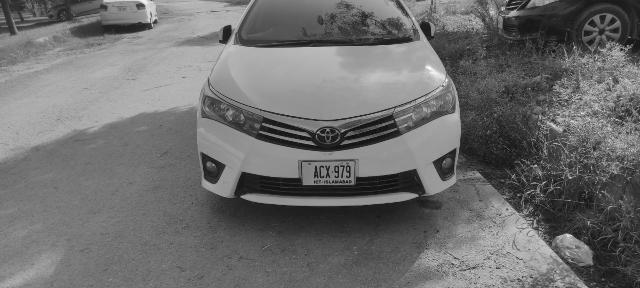Number: (311, 164, 353, 180)
